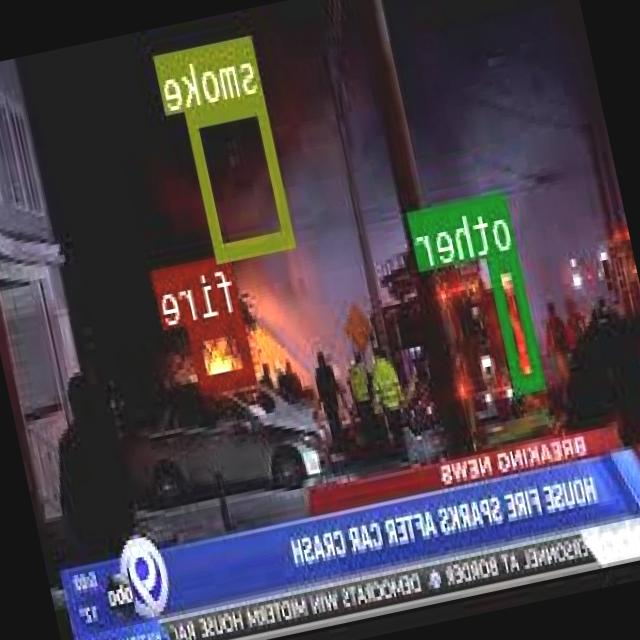fire: (188, 312, 256, 391)
smoke: (188, 92, 296, 259)
